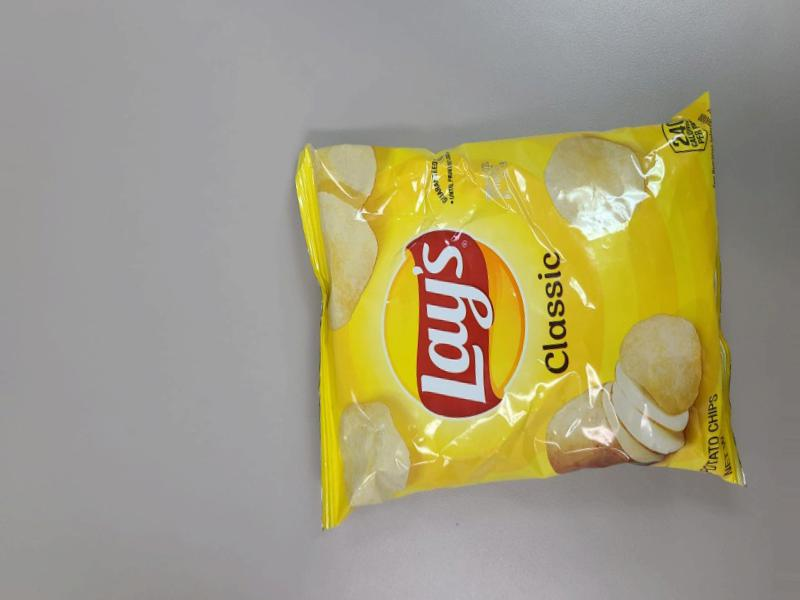lays: (373, 141, 701, 554)
